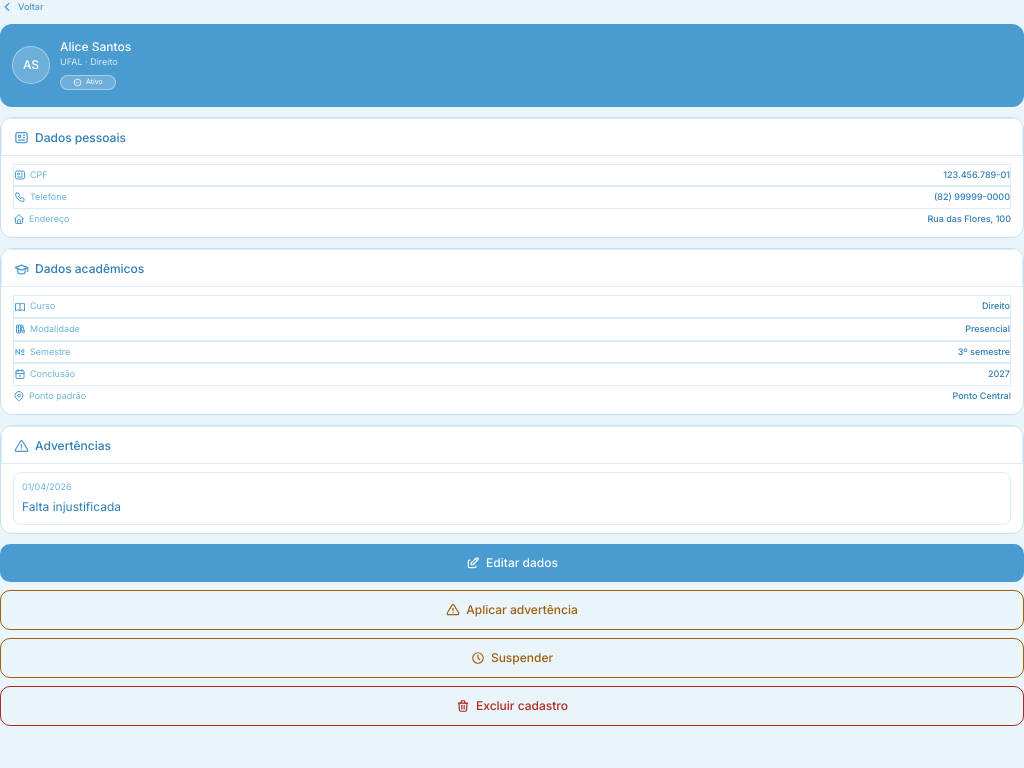
Test: DetalheAlunoPage — suspender aluno › clicar em Suspender abre modal de confirmação
Click the button "Suspender": click(512, 658) 0,638 -> 1023,678
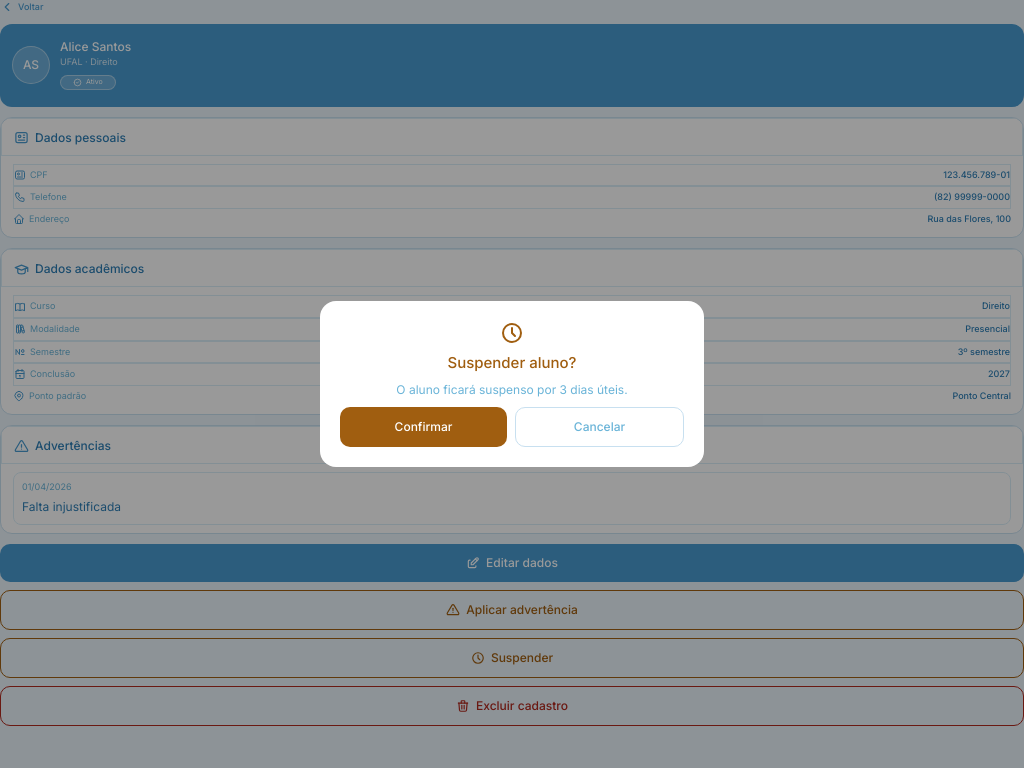
Check: the dialog is shown, box 320,301 -> 704,467
Check: the text "O aluno ficará suspenso por 3 dias úteis." is shown, box 396,381 -> 628,399
